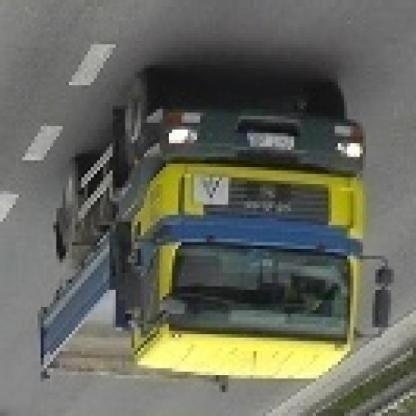truck: (42, 83, 392, 390)
